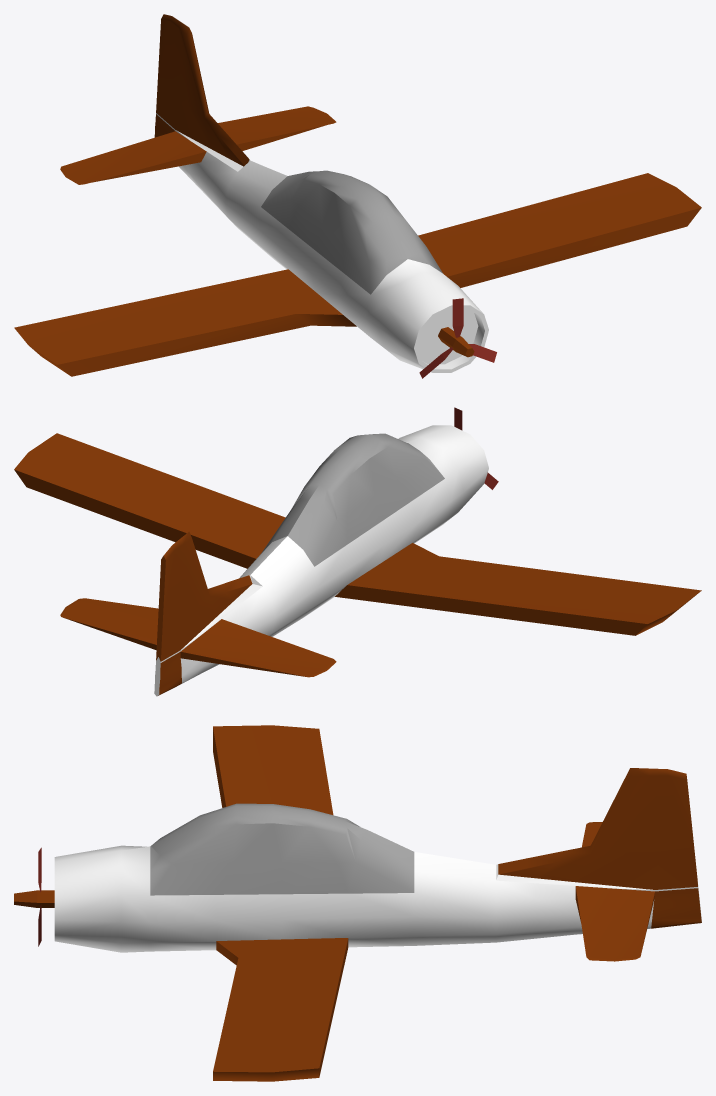
The model's file is avion3.glb.
3 views of the same model, one above another, from view 1: azimuth 30°, elevation 25°; view 2: azimuth 150°, elevation 25°; view 3: azimuth 270°, elevation 25° (orthographic). The views are drawn at different scales.
Visible parts, largest first — view 1: Cylinder, Cylinder.003; view 2: Cylinder; view 3: Cylinder, Cylinder.003.
Boxes of the visible parts, left/top/right/bottom form: Cylinder: left=14, top=14, right=701, bottom=376; Cylinder.003: left=419, top=298, right=496, bottom=378; Cylinder: left=14, top=425, right=701, bottom=696; Cylinder: left=54, top=725, right=701, bottom=1081; Cylinder.003: left=14, top=847, right=54, bottom=946.
Size of the model in its own units: 7.84 by 1.89 by 6.57.
1 material, 1 textured.
